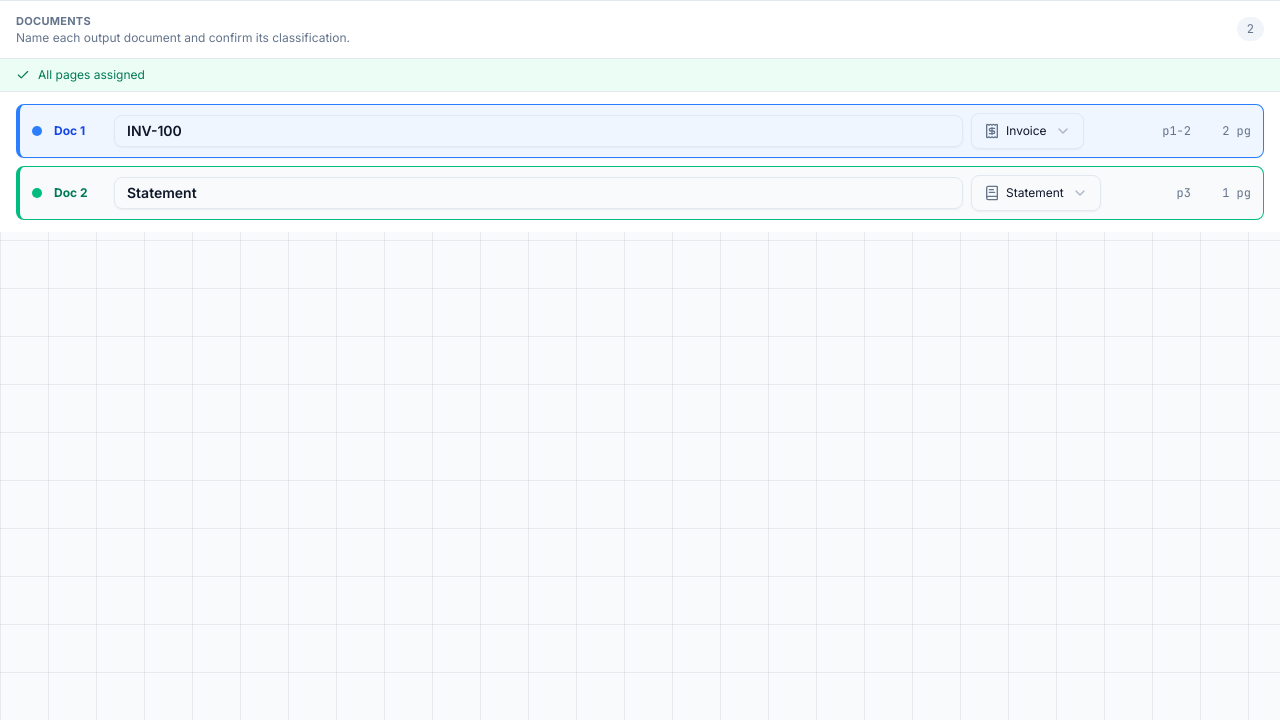
Scenario: GroupBuilder › renders active classification options supplied by the classifications API
Click the dropdown labelled "Invoice" at (1027, 130), box [971,112,1084,148]
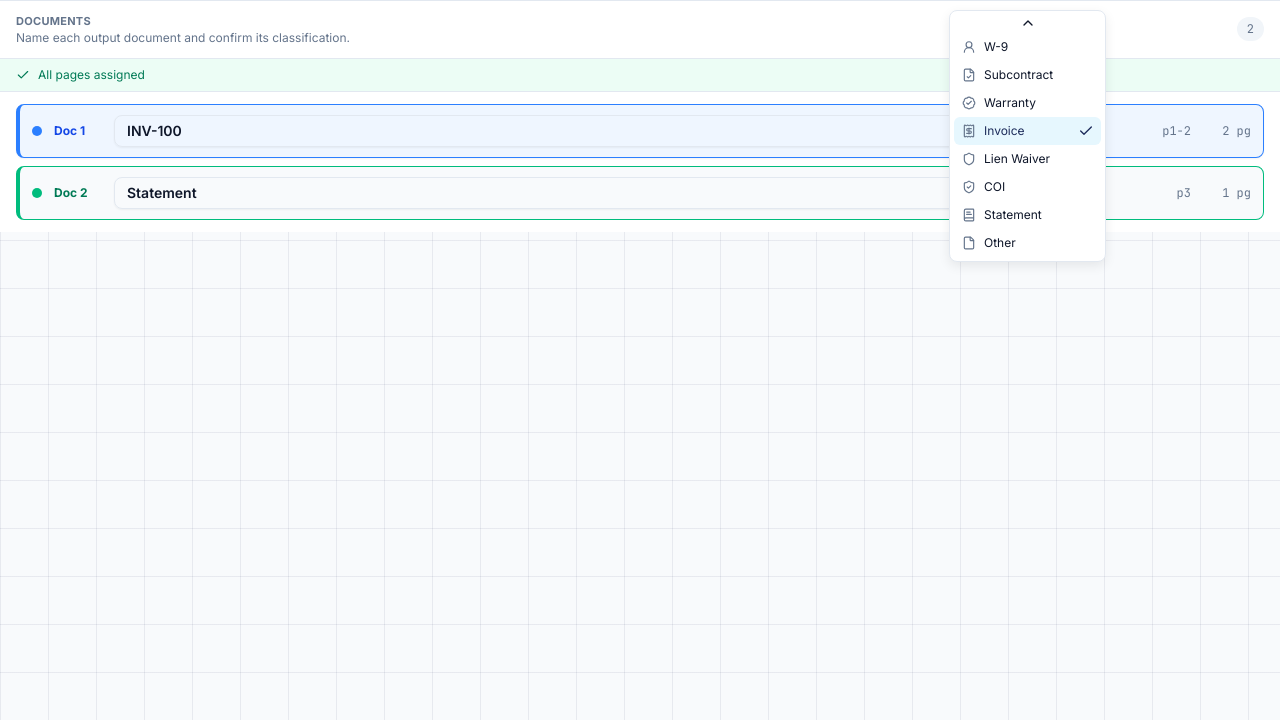
Expected: the option "W-9" is shown, [962,39,1008,54]
Expected: the option "Subcontract" is shown, [962,67,1053,82]
Expected: the option "Warranty" is shown, [962,95,1036,110]
